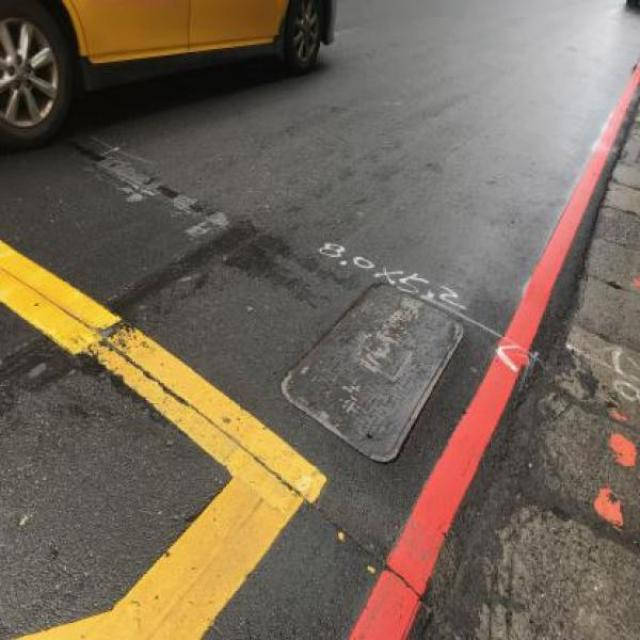Good: (279, 280, 467, 466)
